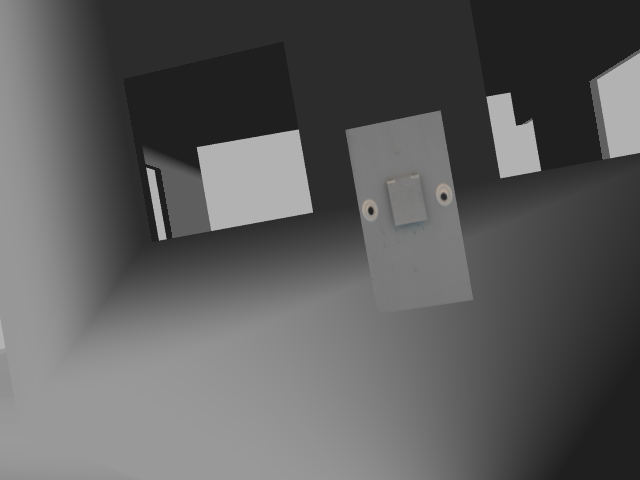facade: (359, 172, 455, 229)
